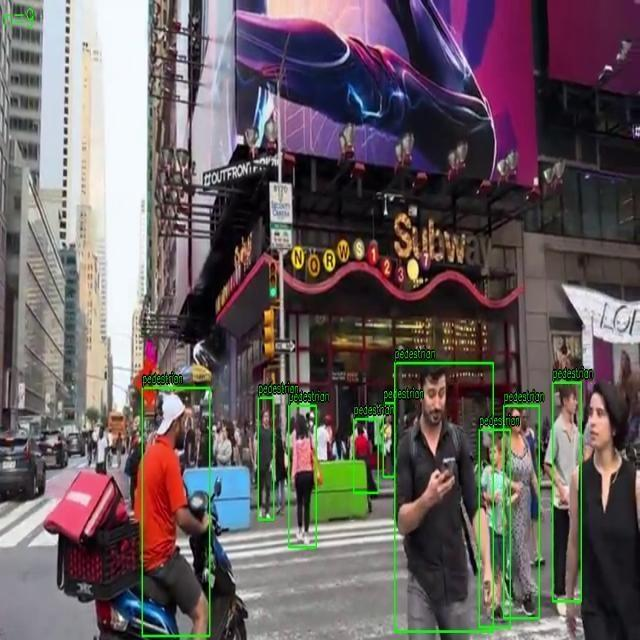person: (394, 362, 494, 632), (142, 388, 210, 636), (504, 406, 540, 618), (552, 382, 582, 602), (479, 430, 511, 628), (288, 406, 316, 548), (258, 397, 274, 520), (354, 418, 378, 494), (383, 402, 395, 478)
